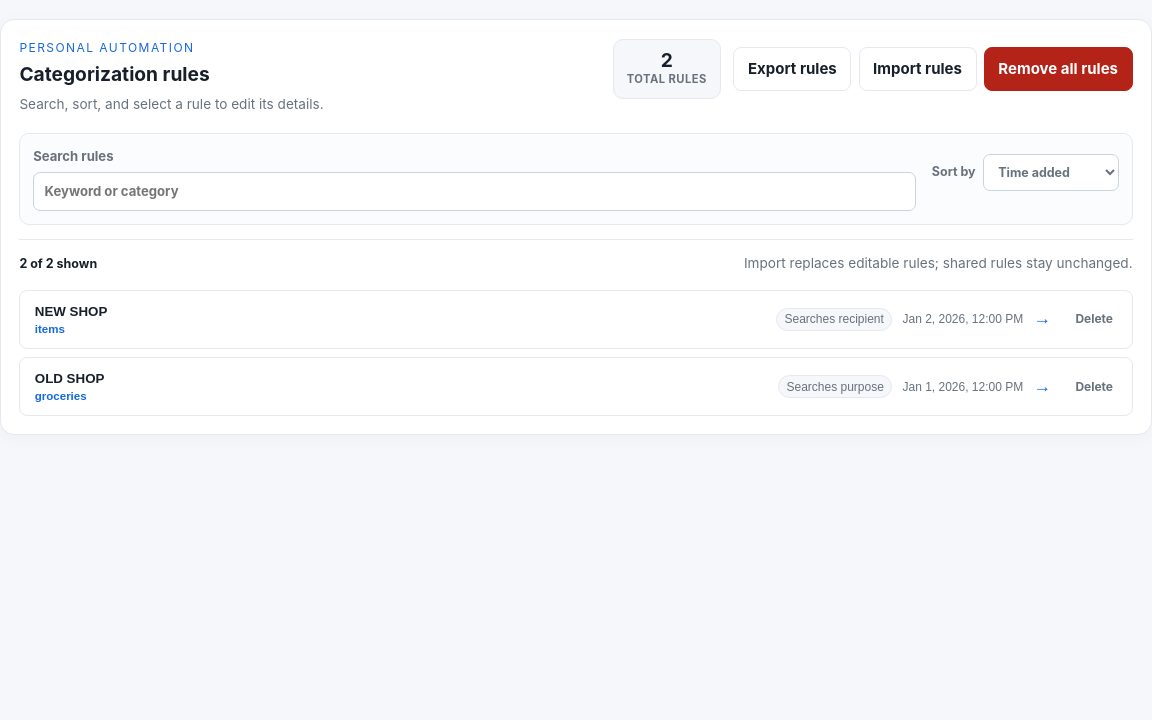
rule summary list › sorts rules and opens a details modal
expect the list item that starts with "NEW SHOP" is shown: met, box [20,291,1066,348]
Step 1. Select "Category" in the dropdown named "Categorization rules sort order" → (1051, 173), box [983,154,1119,191]
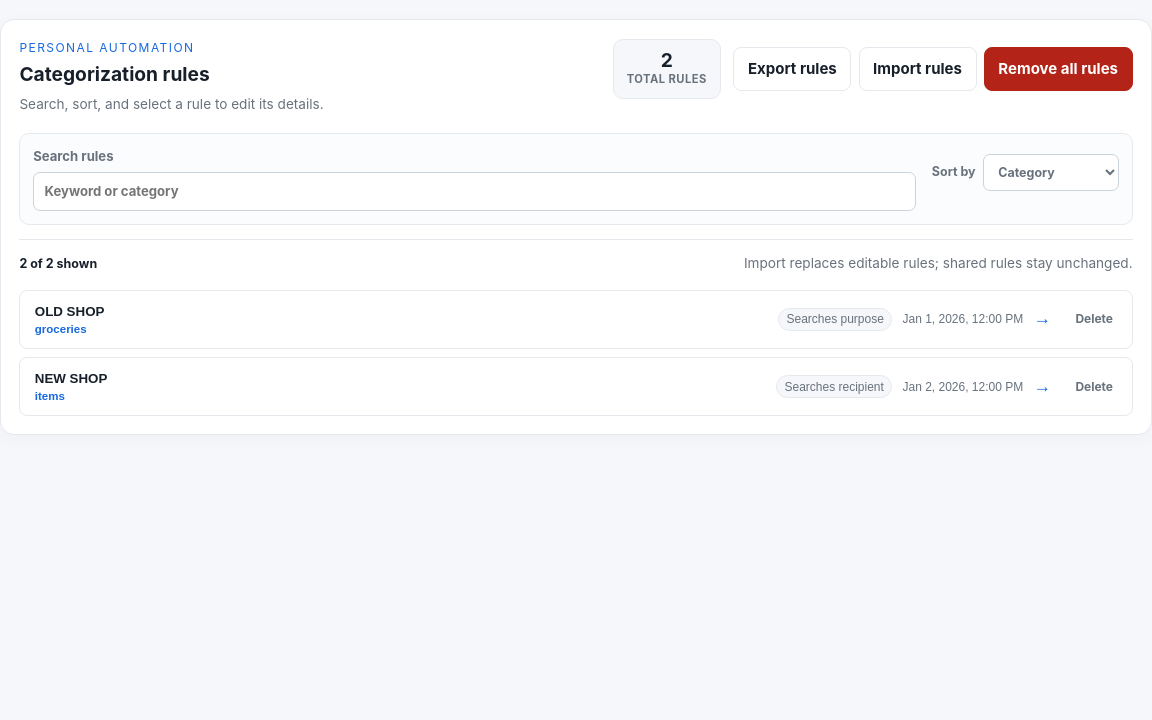
expect the list item that starts with "OLD SHOP" is shown: met, box [20,291,1066,348]
Step 2. Select "Name" in the dropdown named "Categorization rules sort order" → (1051, 173), box [983,154,1119,191]
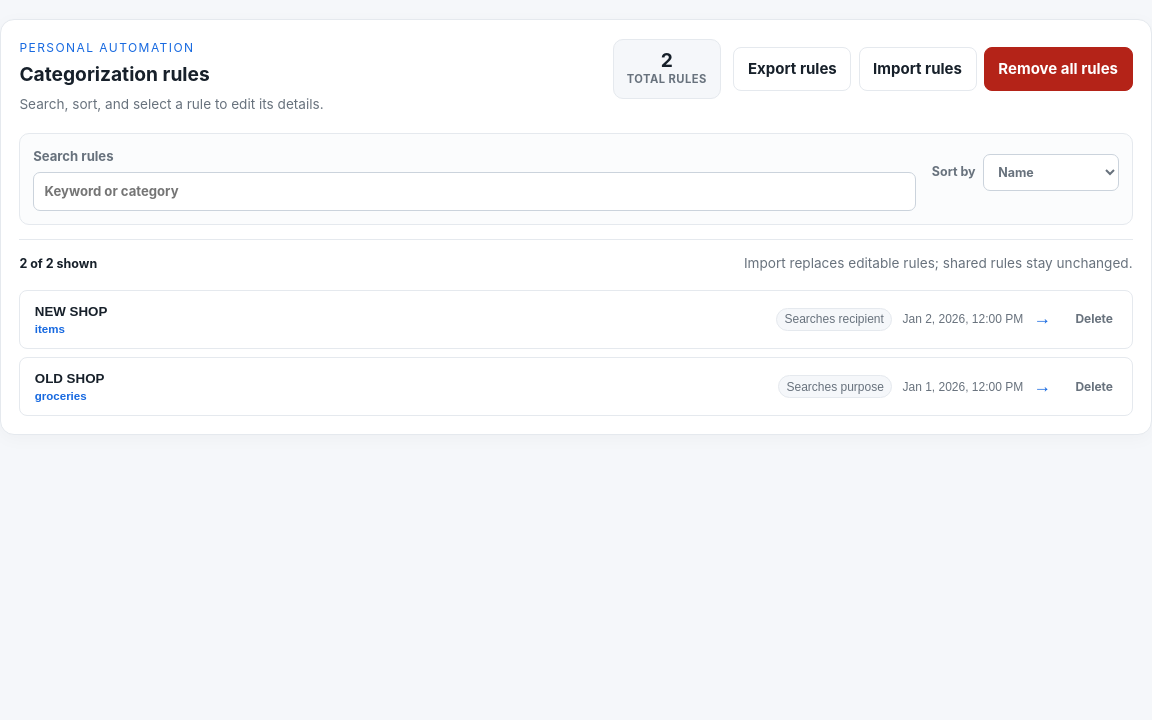
expect the list item that starts with "NEW SHOP" is shown: met, box [20,291,1066,348]
Step 3. Click the button "OLD SHOP groceries Searches purpose Jan 1, 2026, 12:00 PM →" → (70, 379), box [20,358,1066,415]
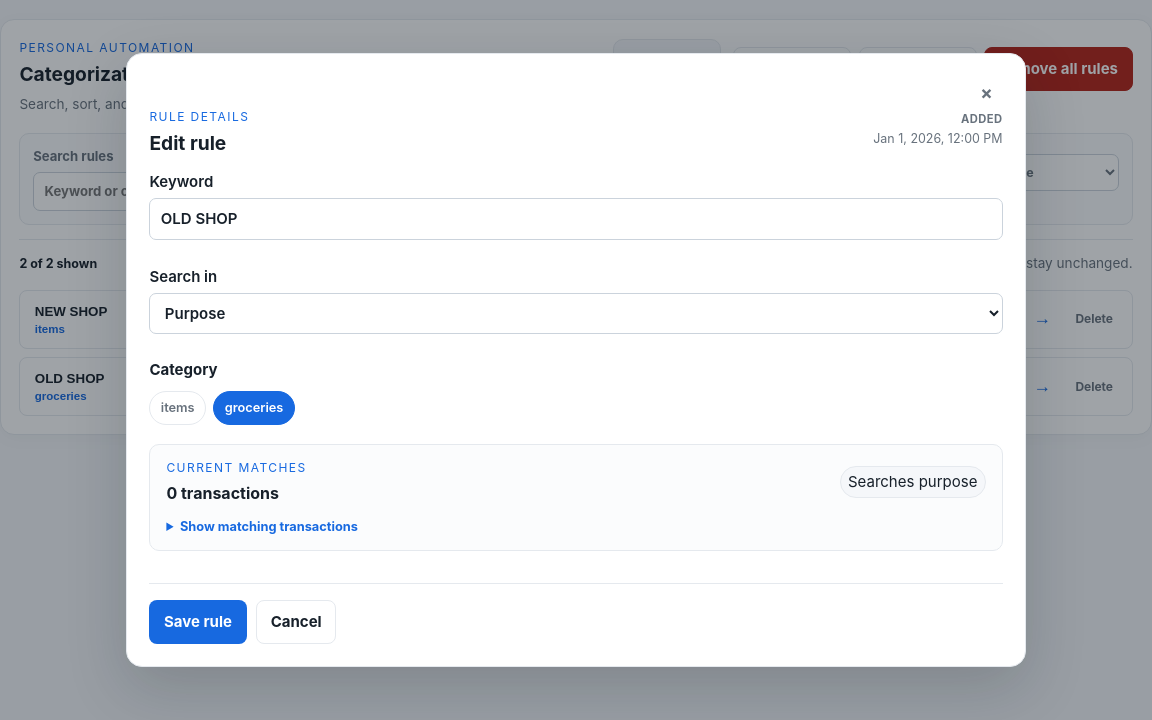
expect the dialog is shown: met
expect the heading "Edit rule" is shown: met, box [149,131,226,155]
expect the text "Jan 1, 2026, 12:00 PM" is shown: met, box [873,130,1003,148]
Step 4. Click the button named "Close rule details" → (987, 92), box [971,76,1003,108]
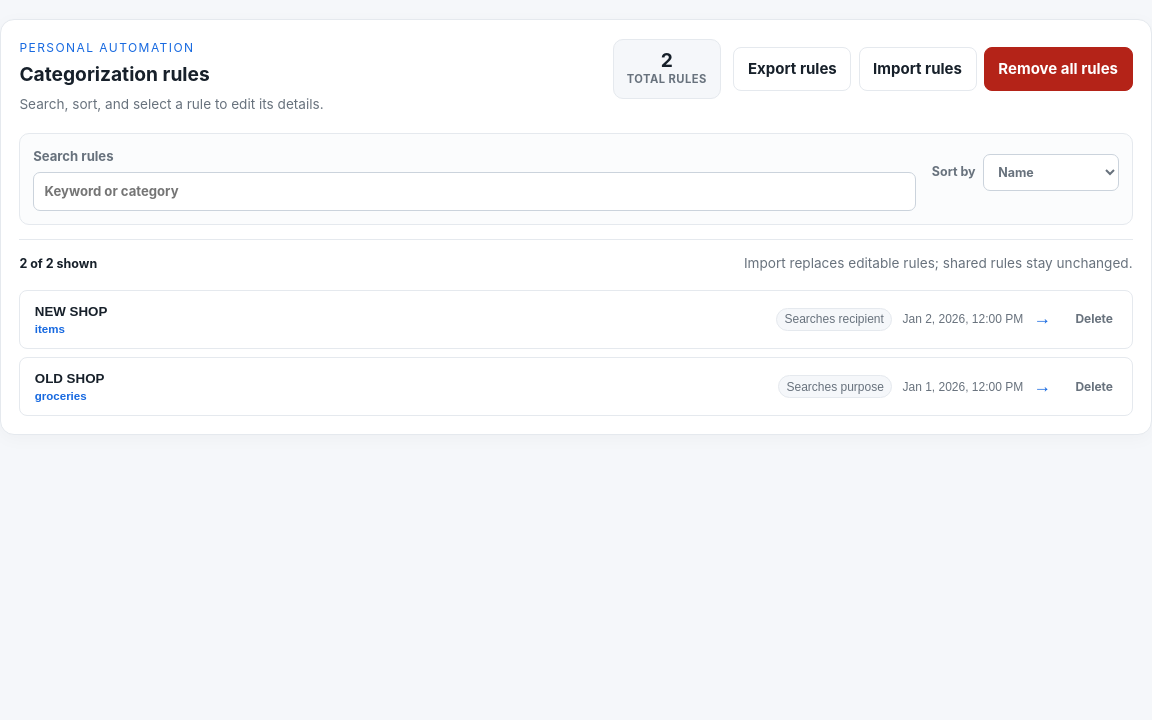
expect the dialog is gone: met
